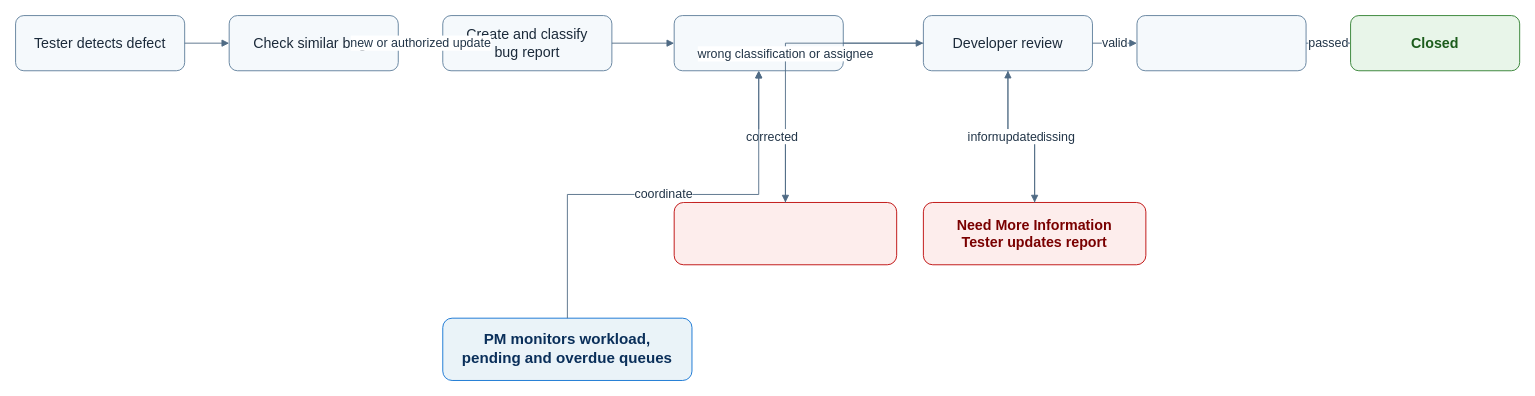
The diagram is 1535 pixels wide and 396 high, and some of its shapes have lost their labels. Here are the shapes that lost their labels. From the top down, the centre of each, then its label:
pixel 758 43: Choose Developer or Pending Assignment
pixel 1221 43: Resolve and retest
pixel 785 233: Rejected with follow-up Correct and reassign
